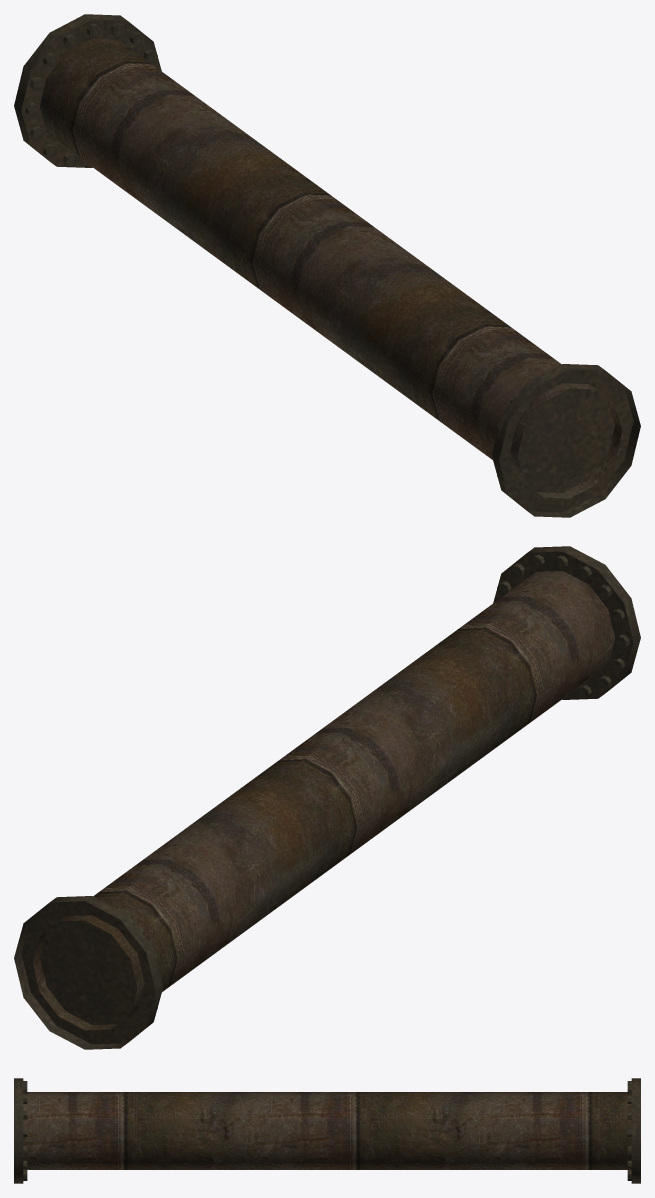
Rendered from pipe_bx_1.obj.
3 views of the same model, one above another, from view 1: azimuth 30°, elevation 25°; view 2: azimuth 150°, elevation 25°; view 3: azimuth 270°, elevation 25° (orthographic). The views are drawn at different scales.
Visible parts, largest first — view 1: pipe_bx_1; view 2: pipe_bx_1; view 3: pipe_bx_1.
Part boxes in pixels (left/top/right/bottom): pipe_bx_1: left=14, top=14, right=640, bottom=517; pipe_bx_1: left=14, top=546, right=640, bottom=1049; pipe_bx_1: left=14, top=1078, right=640, bottom=1183.
Size of the model in its own units: 0.676 by 0.676 by 4.
